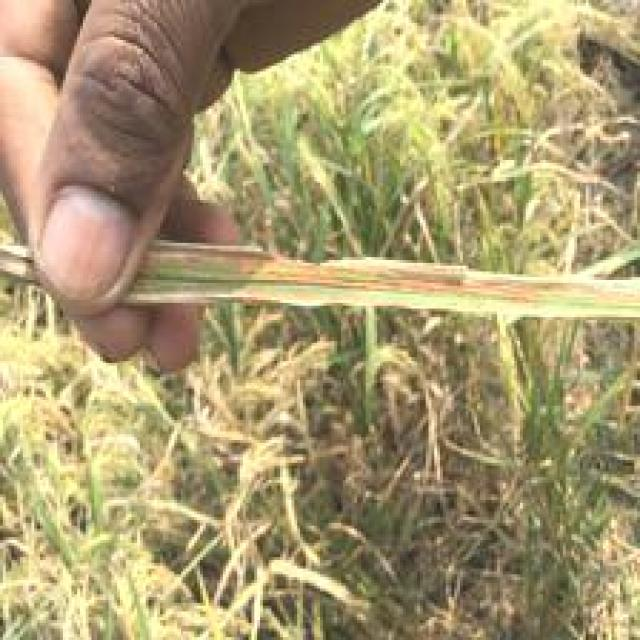Bacterial_Leaf_Blight: (134, 223, 617, 357)
